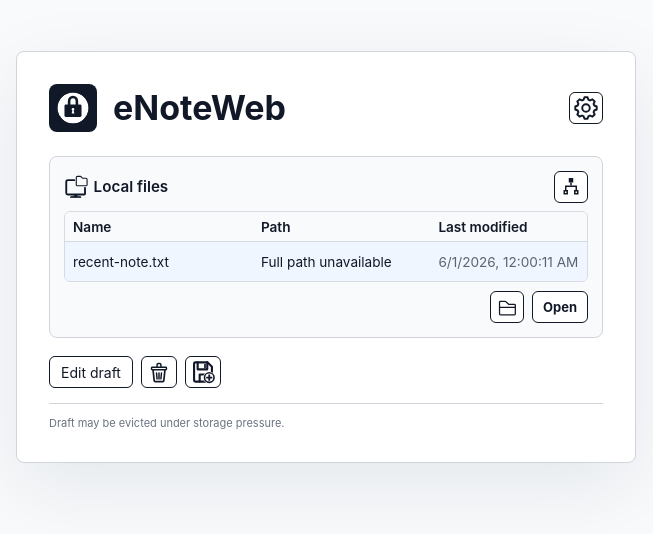
Test case: App local file home screen › home Save As reports cleanup failure separately after a successful local write
This screenshot has width=653, height=534.
Click the button named "Save As".
click(203, 372)  # box top-left (185, 356), bottom-right (221, 388)
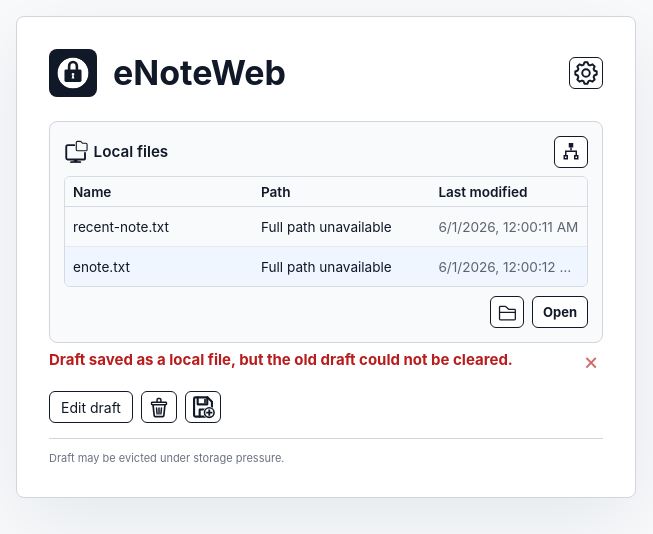
Check: the button "Edit draft" is shown, box top-left (49, 391), bottom-right (133, 423)
Check: the text "Draft saved as a local file, but the old draft could not be cleared." is shown, box top-left (49, 349), bottom-right (569, 372)
